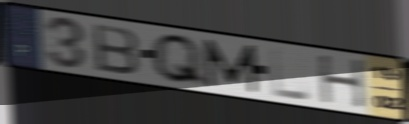3: (42, 15, 88, 71)
B: (90, 21, 142, 77)
H: (316, 53, 369, 110)
L: (268, 46, 313, 103)
M: (201, 37, 260, 95)
Q: (150, 32, 209, 89)
